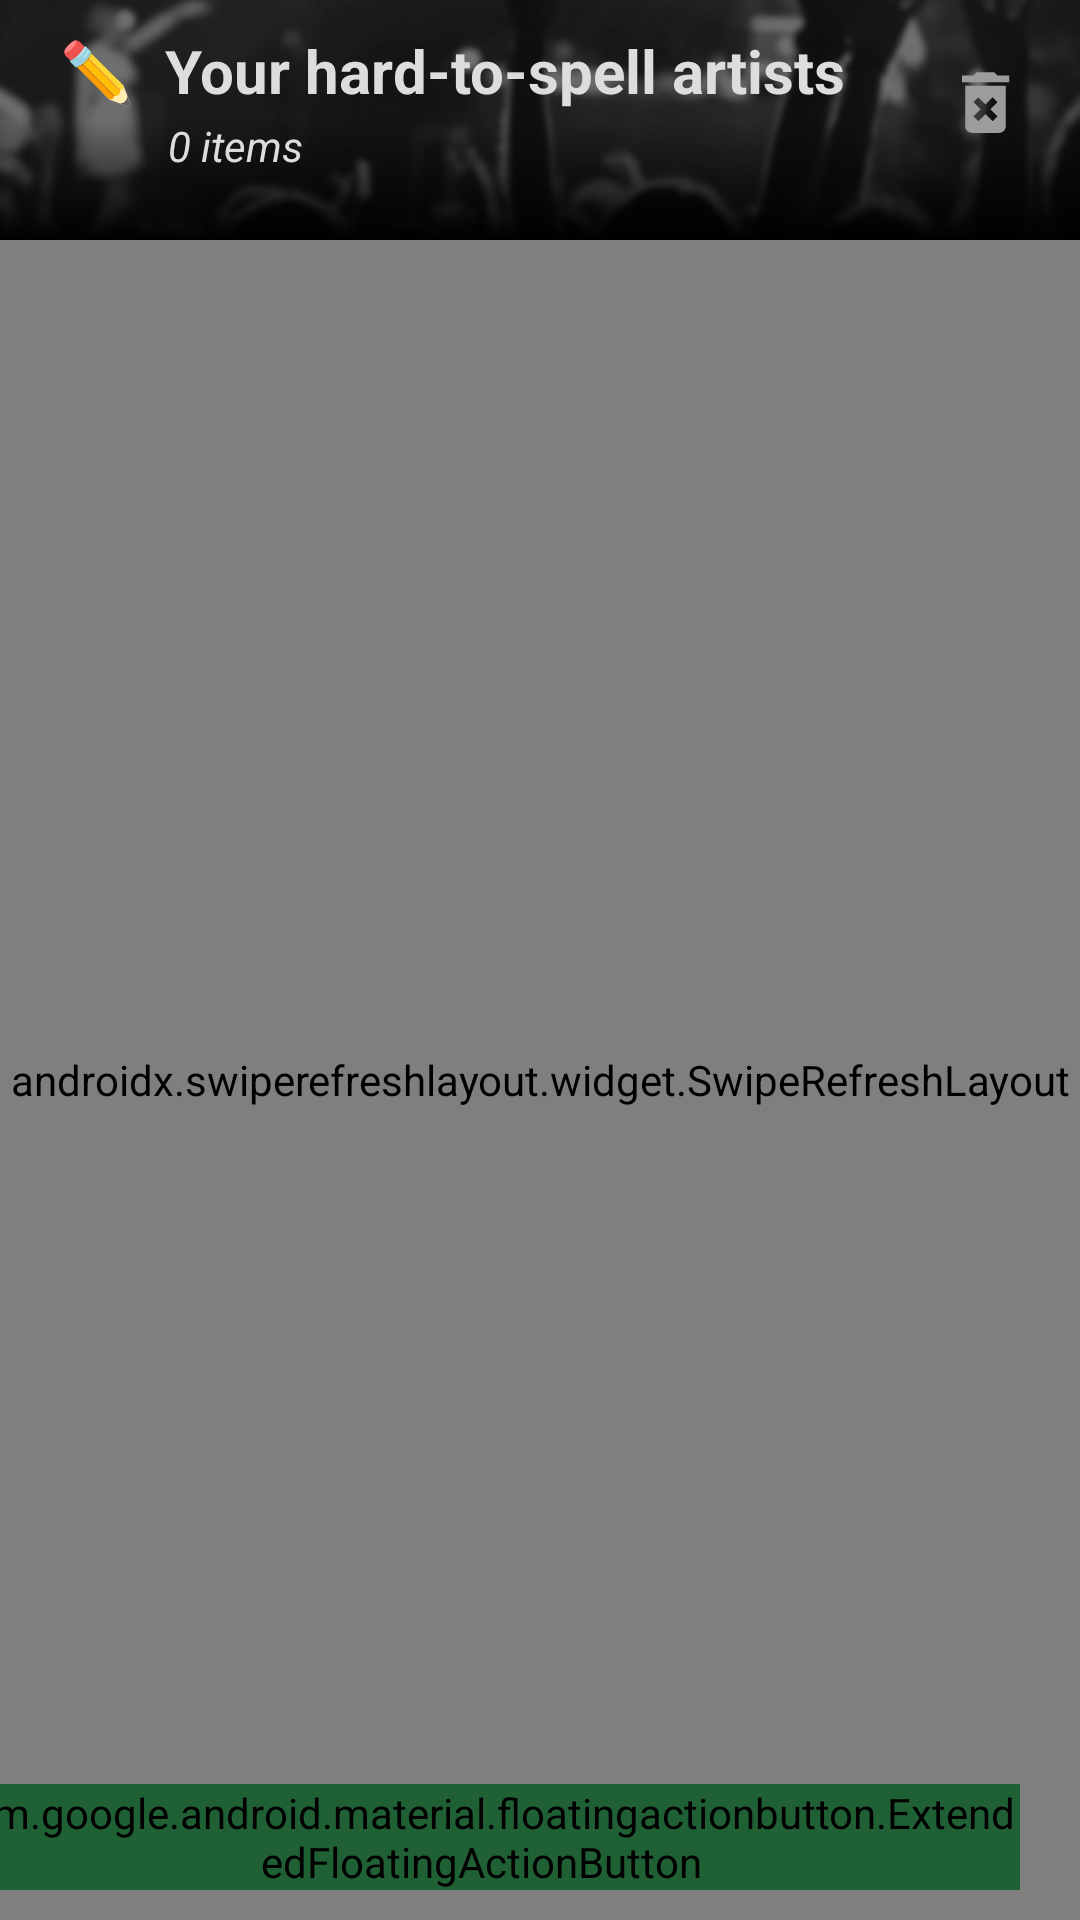

Icon bounding boxes for this 1080*1920 phone screenshot, format (x1, y1, x2, y2):
delete: (962, 68, 1009, 133)
